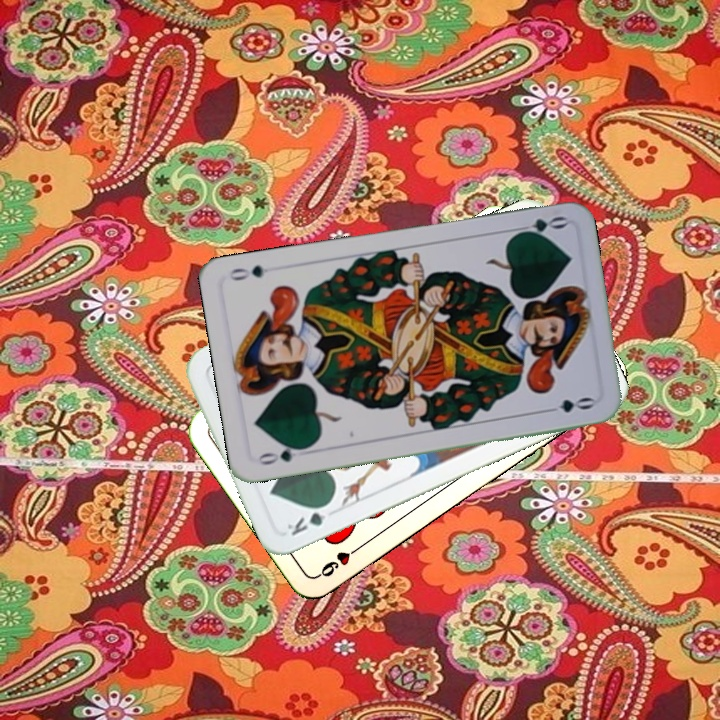GK: (283, 499, 334, 538)
GO: (509, 212, 569, 239), (254, 441, 312, 468)
H9: (314, 540, 366, 580)
